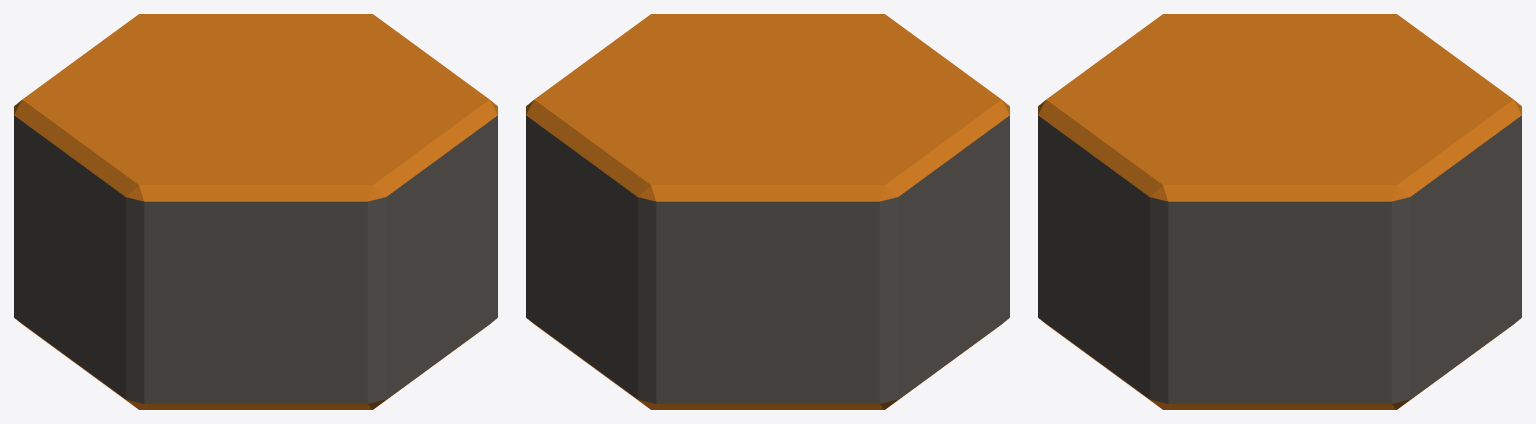
The model's file is BaseHex_Orange.fbx.
3 views of the same model, side by side, from view 1: azimuth 30°, elevation 25°; view 2: azimuth 150°, elevation 25°; view 3: azimuth 270°, elevation 25° (orthographic).
Visible parts, largest first — view 1: 04.Orange; view 2: 04.Orange; view 3: 04.Orange.
Boxes of the visible parts, left/top/right/bottom form: 04.Orange: left=14, top=14, right=497, bottom=409; 04.Orange: left=526, top=14, right=1009, bottom=409; 04.Orange: left=1038, top=14, right=1521, bottom=409.
Bounding box in the file's own units: 173 × 100 × 195.
Materials: 1 (1 with a texture image).
